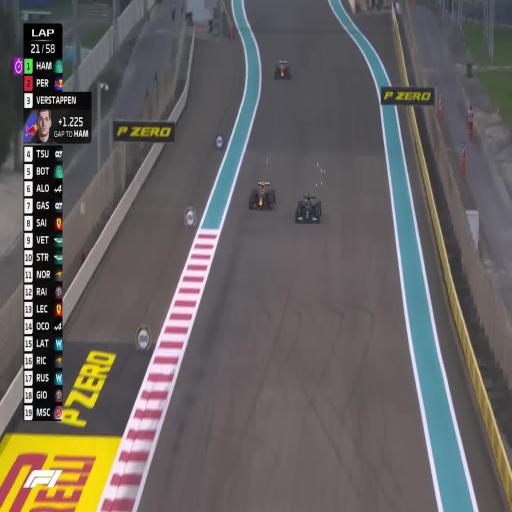f1_car: (295, 193, 322, 223), (249, 182, 275, 209), (275, 61, 291, 79)
